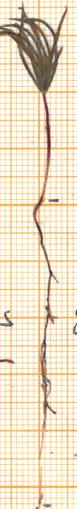flower: (0, 0, 73, 96)
root: (28, 200, 62, 463)
stem: (28, 93, 52, 201)
